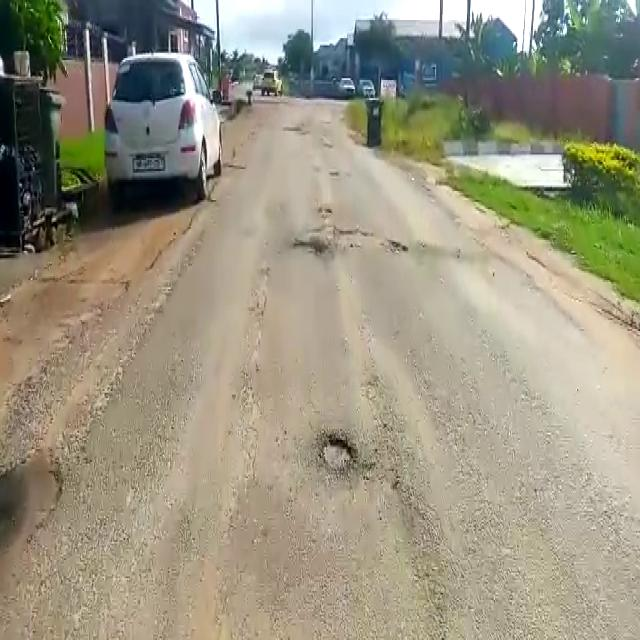Pothole: (334, 230, 410, 256), (320, 434, 359, 479), (290, 238, 327, 258)
